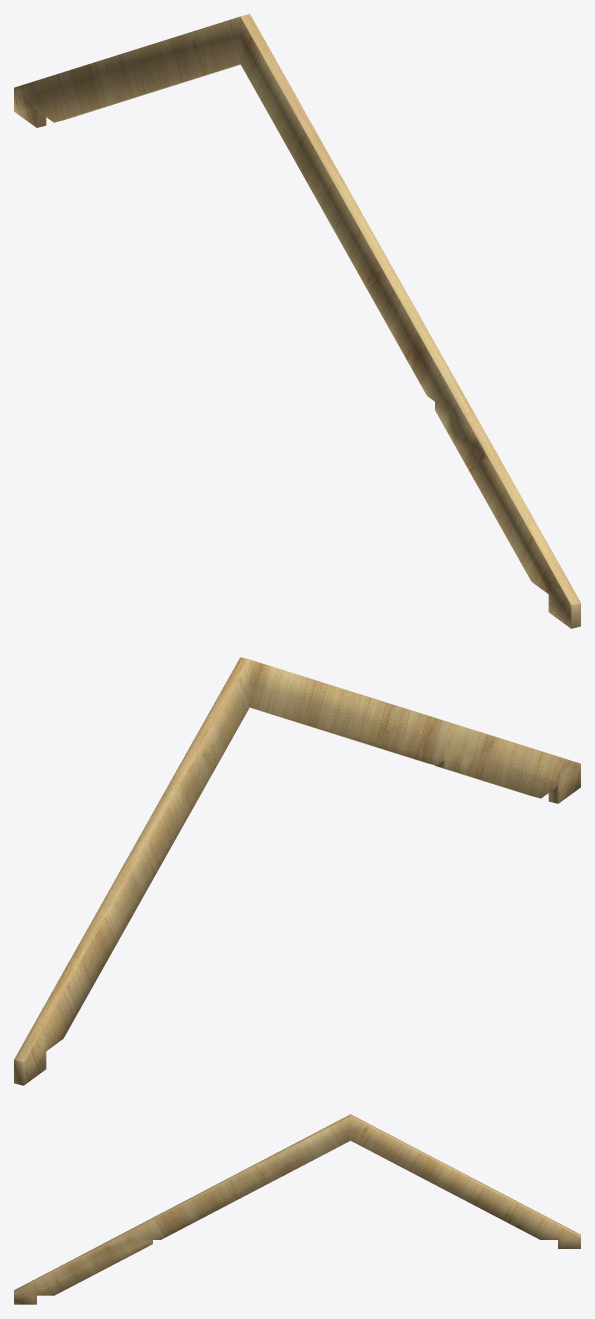
3 renders of one model, top to bottom at view 1: azimuth 30°, elevation 25°; view 2: azimuth 150°, elevation 25°; view 3: azimuth 270°, elevation 25°, orthographic. The views are drawn at different scales.
Parts seen in each view (by area): view 1: 4roof_bulk_0; view 2: 4roof_bulk_0; view 3: 4roof_bulk_0.
Part boxes in pixels (x1,y1,x2,y2): 4roof_bulk_0: (14, 14, 580, 628); 4roof_bulk_0: (14, 657, 580, 1085); 4roof_bulk_0: (14, 1114, 580, 1304).
Bounding box in the file's own units: 0.0505 × 1.79 × 4.9.
Materials: 1 (1 with a texture image).
